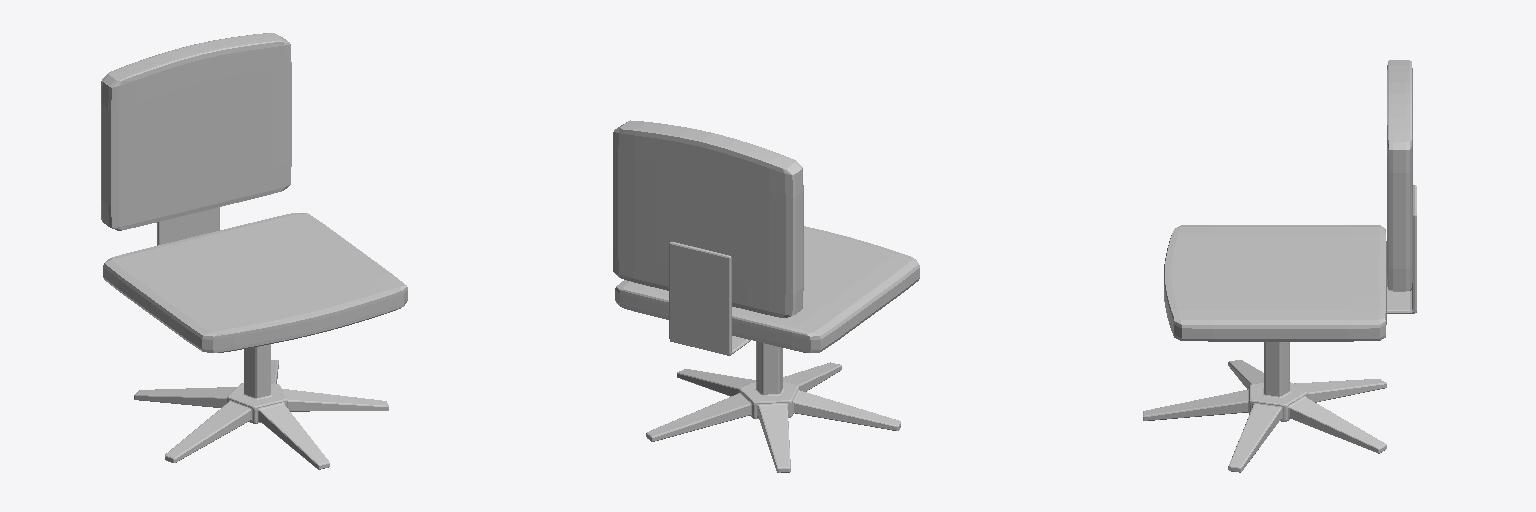
Rendered from chair.obj.
The picture shows the model from 3 angles: view 1: azimuth 30°, elevation 25°; view 2: azimuth 150°, elevation 25°; view 3: azimuth 270°, elevation 25°; orthographic projection.
Parts seen in each view (by area): view 1: Plane.001, Plane_Plane.002, Circle.029_Circle.000, Plane.002_Plane.000; view 2: Plane.001, Plane_Plane.002, Circle.029_Circle.000, Plane.002_Plane.000; view 3: Plane_Plane.002, Circle.029_Circle.000, Plane.001, Plane.002_Plane.000.
Boxes of the visible parts, box(x1,y1,x2,y2) form: Plane.001: box(101, 33, 291, 230); Plane_Plane.002: box(103, 213, 407, 352); Circle.029_Circle.000: box(134, 344, 388, 469); Plane.002_Plane.000: box(157, 207, 219, 245); Plane.001: box(613, 120, 803, 317); Plane_Plane.002: box(615, 226, 919, 352); Circle.029_Circle.000: box(646, 341, 900, 472); Plane.002_Plane.000: box(669, 242, 750, 355); Plane_Plane.002: box(1164, 225, 1386, 341); Circle.029_Circle.000: box(1143, 342, 1386, 472); Plane.001: box(1387, 60, 1412, 291); Plane.002_Plane.000: box(1387, 185, 1416, 313).
Bounding box in the file's own units: 0.8952 × 1.26 × 0.9581.